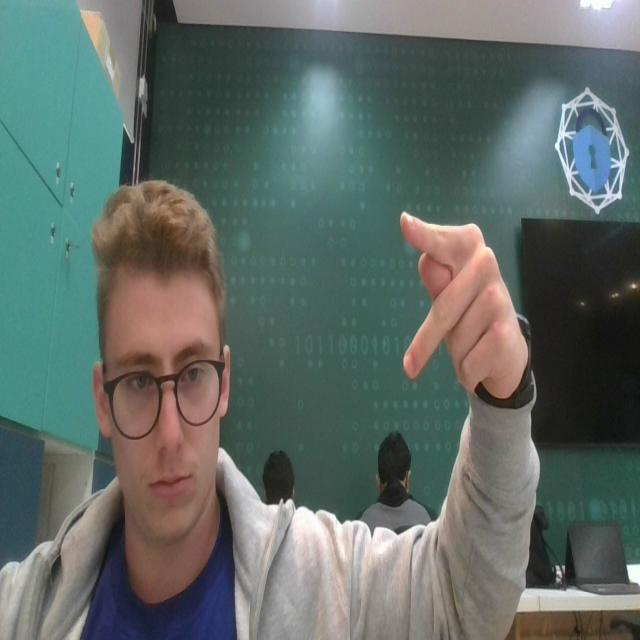P: (394, 199, 523, 416)
